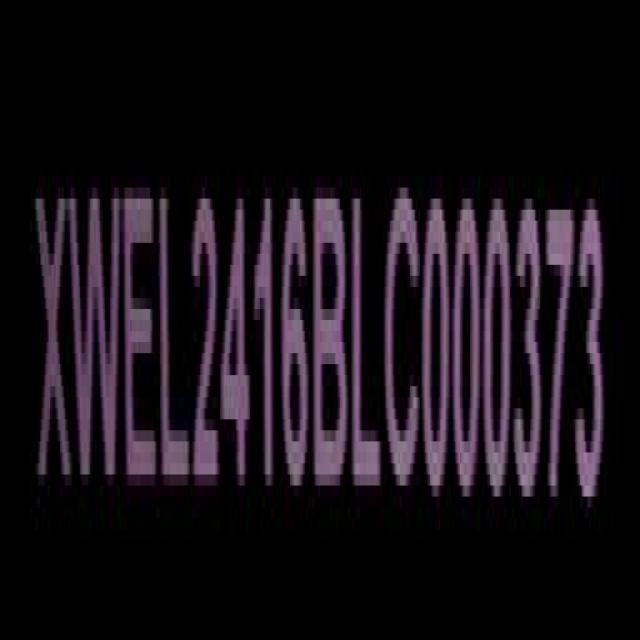0: (421, 188, 452, 490), (482, 200, 512, 503), (452, 196, 481, 495)
1: (253, 192, 276, 499)
2: (190, 172, 222, 498)
3: (576, 204, 605, 532), (512, 200, 542, 499)
4: (221, 188, 249, 507)
6: (278, 196, 311, 503)
7: (545, 188, 574, 507)
B: (312, 188, 348, 515)
C: (383, 184, 422, 507)
E: (122, 180, 158, 503)
L: (154, 184, 191, 499), (351, 176, 383, 511)
W: (70, 188, 122, 519)
X: (35, 172, 72, 511)
